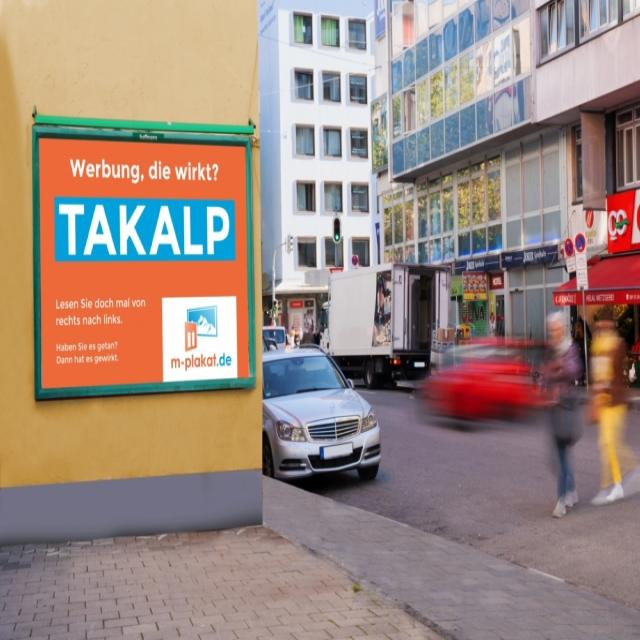Werbetafel frei: (24, 96, 260, 412)
